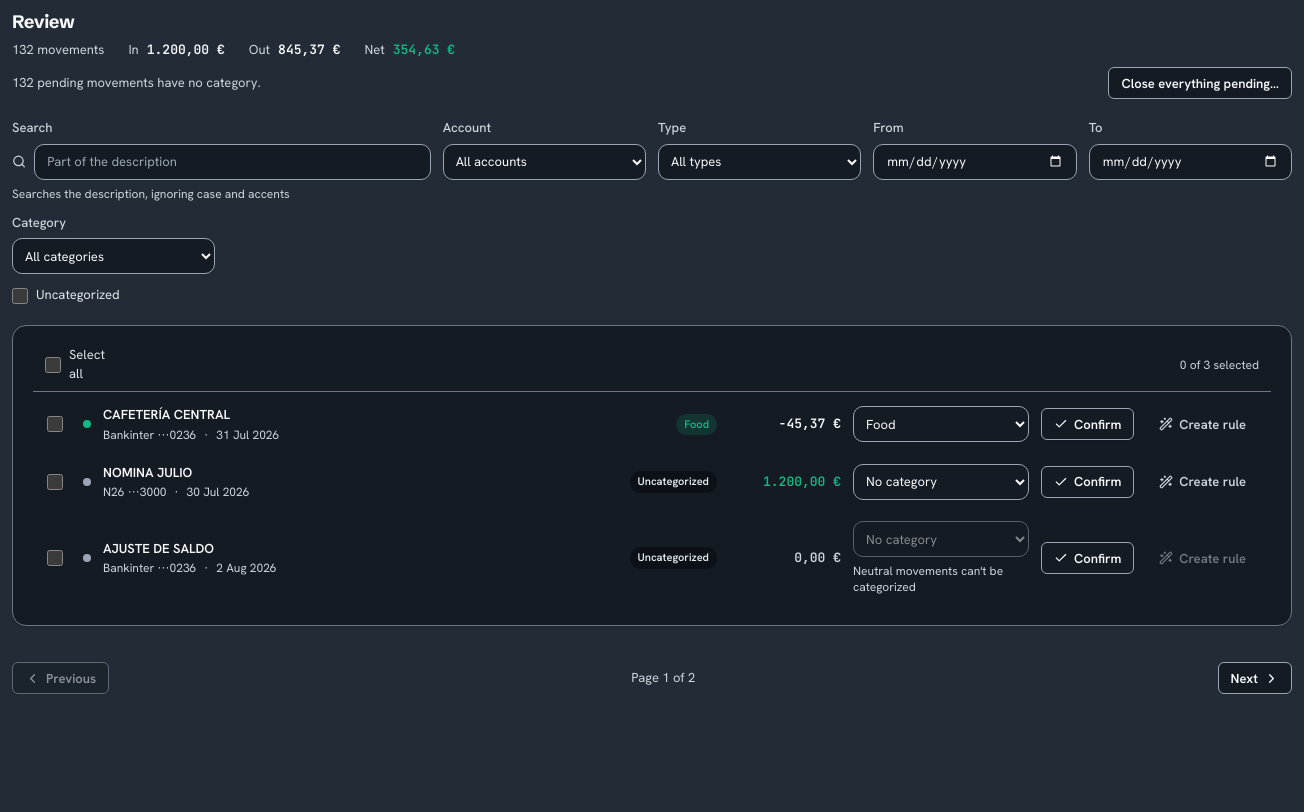
Test: ReviewView › selecting and acting (R1, R3, R6, R10, R13) › confirms the whole page in one request and empties the queue (R6, R10)
Click the checkbox labelled "Select all" at (53, 364), box [45,356,61,372]
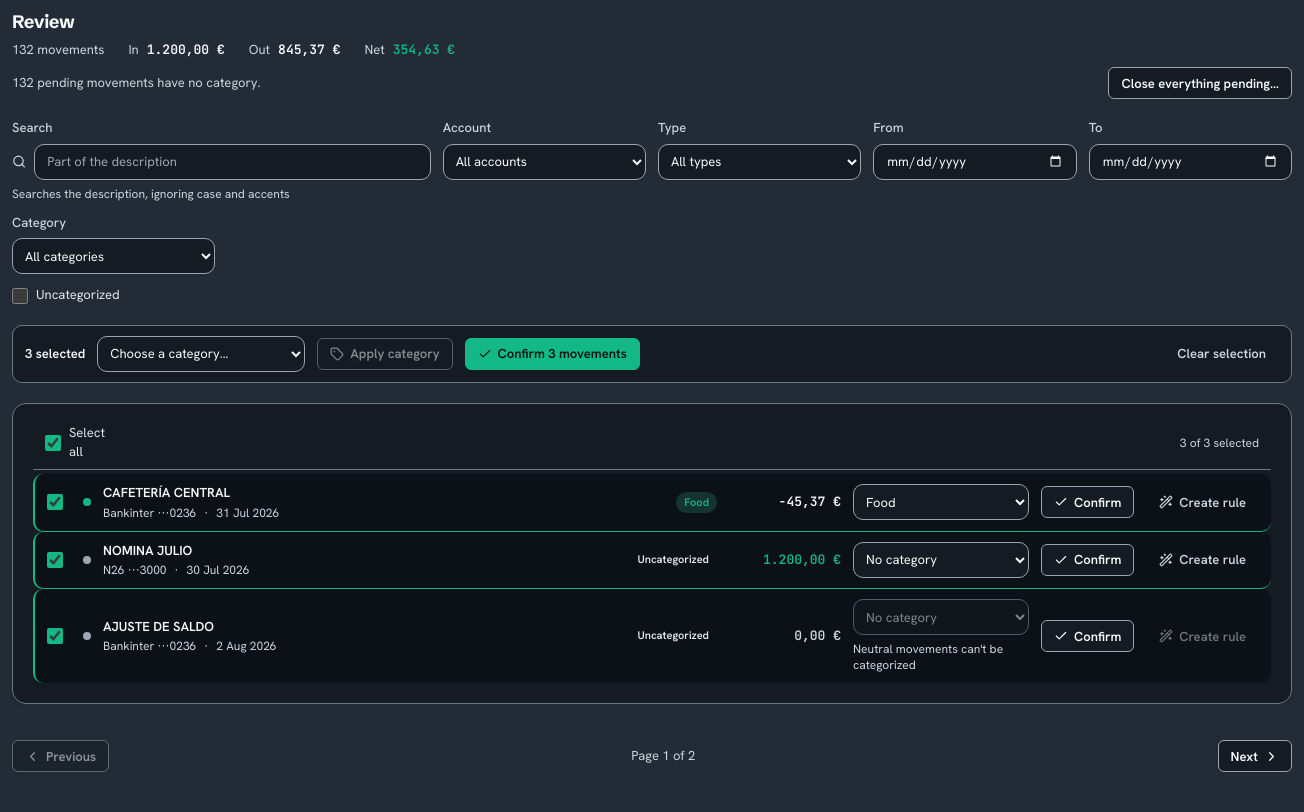
Result: the button with test id "confirm-selected" reads "Confirm 3 movements"
Click the button with test id "confirm-selected" at (552, 354), box [465,338,640,370]
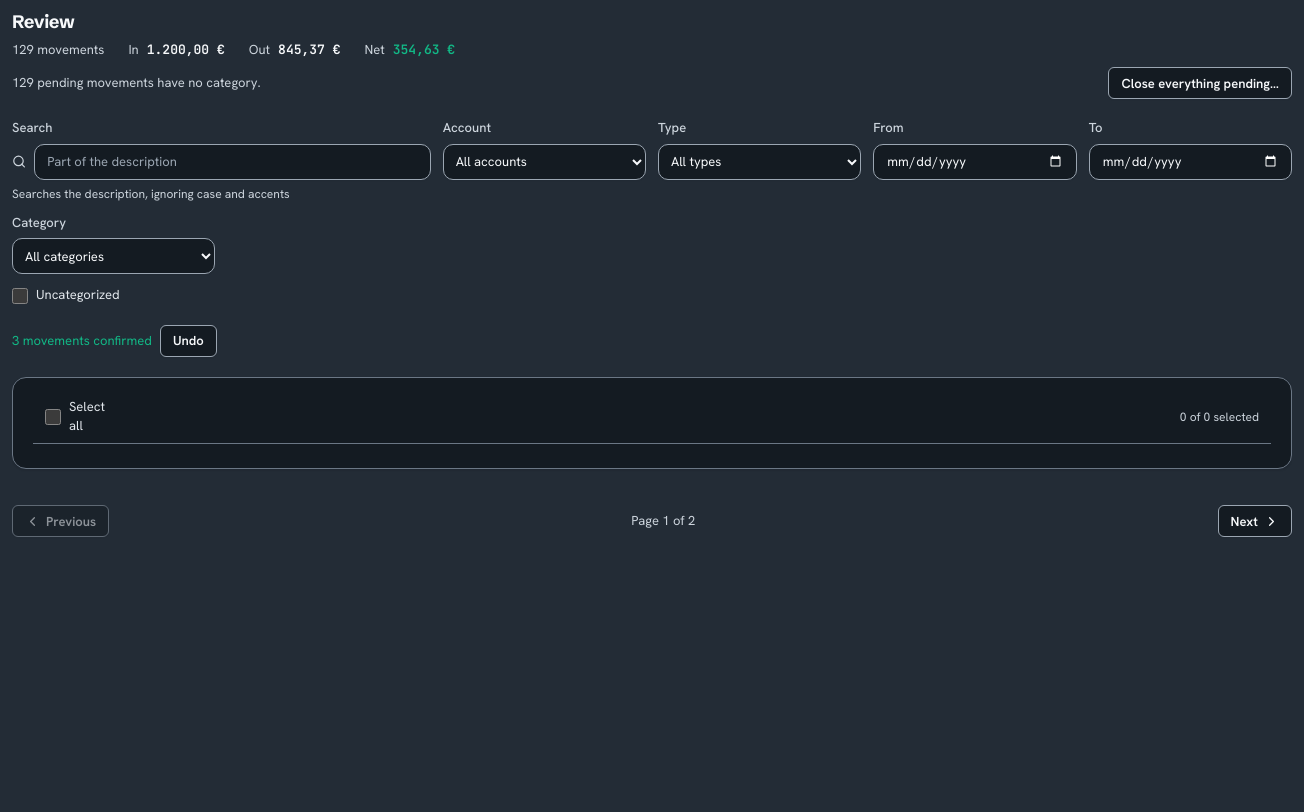
Result: no list items with test id "movement-row" are shown
Result: the element with test id "action-summary" shows "3 movements confirmed" at [12,332,152,349]
